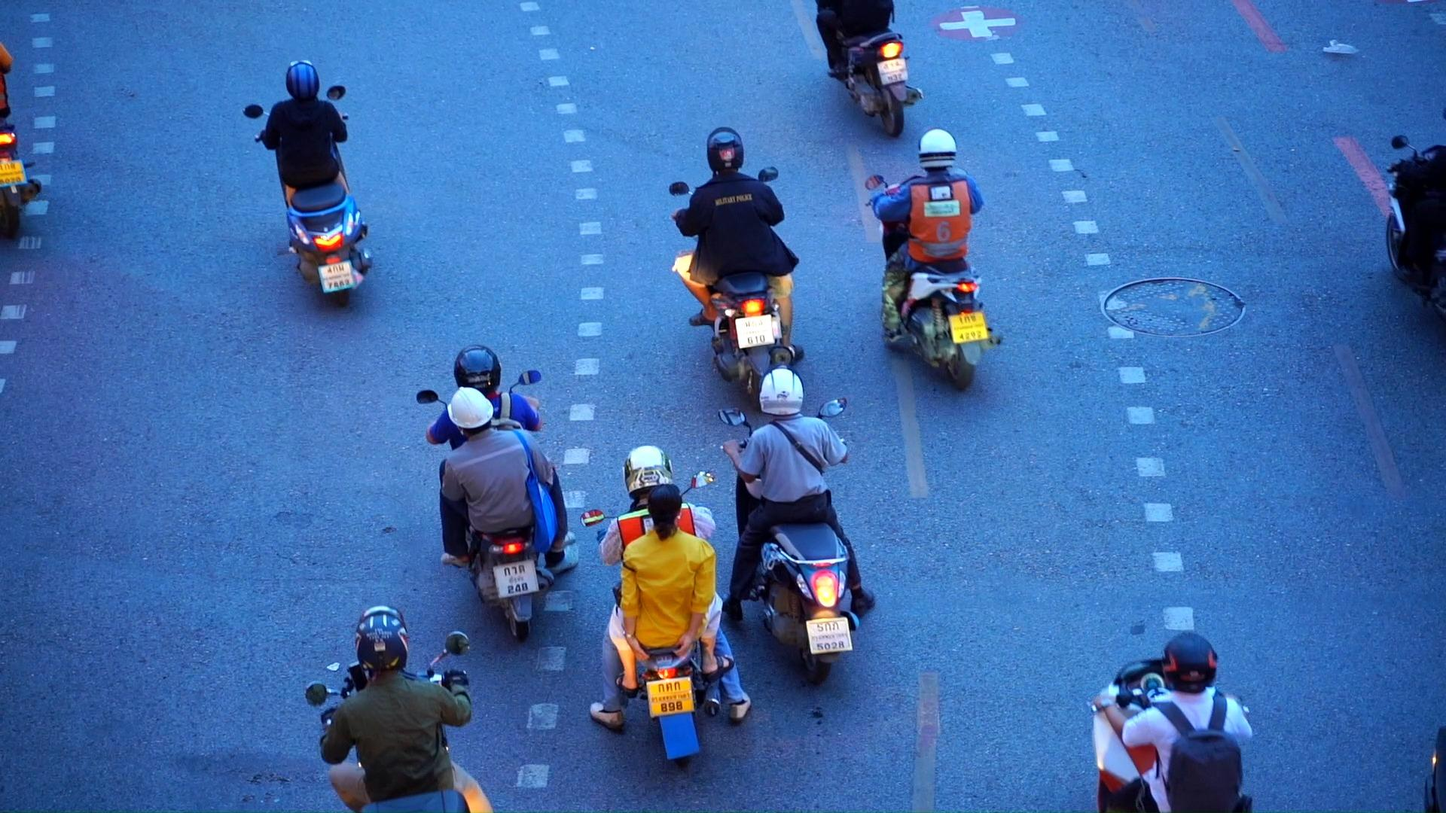driver: (579, 445, 754, 772), (716, 366, 875, 683), (416, 345, 578, 645), (669, 127, 807, 411), (308, 605, 493, 813), (867, 127, 1002, 393), (245, 60, 372, 309), (1084, 633, 1256, 813), (814, 0, 925, 137), (1386, 106, 1446, 322)
helmet: (354, 604, 409, 679), (1160, 633, 1218, 693), (624, 445, 674, 501), (447, 386, 494, 438), (758, 364, 804, 417), (454, 345, 501, 396), (707, 127, 743, 178), (918, 127, 956, 172), (286, 60, 320, 102)
no-helmet: (647, 483, 683, 541)
